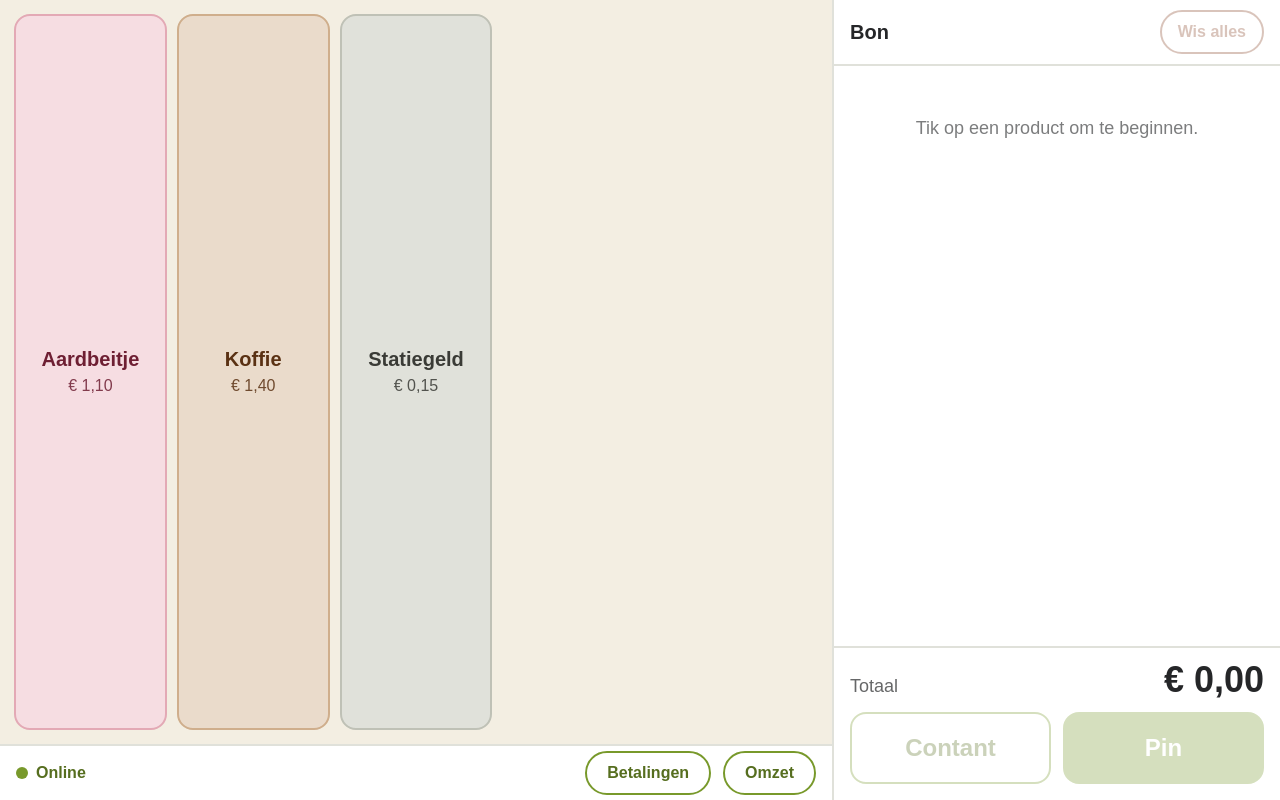
shows what the server refused, and forgets it once it has been passed on
Click the button "Aardbeitje € 1,10" at {"x": 90, "y": 372}, box left=14, top=14, right=167, bottom=730
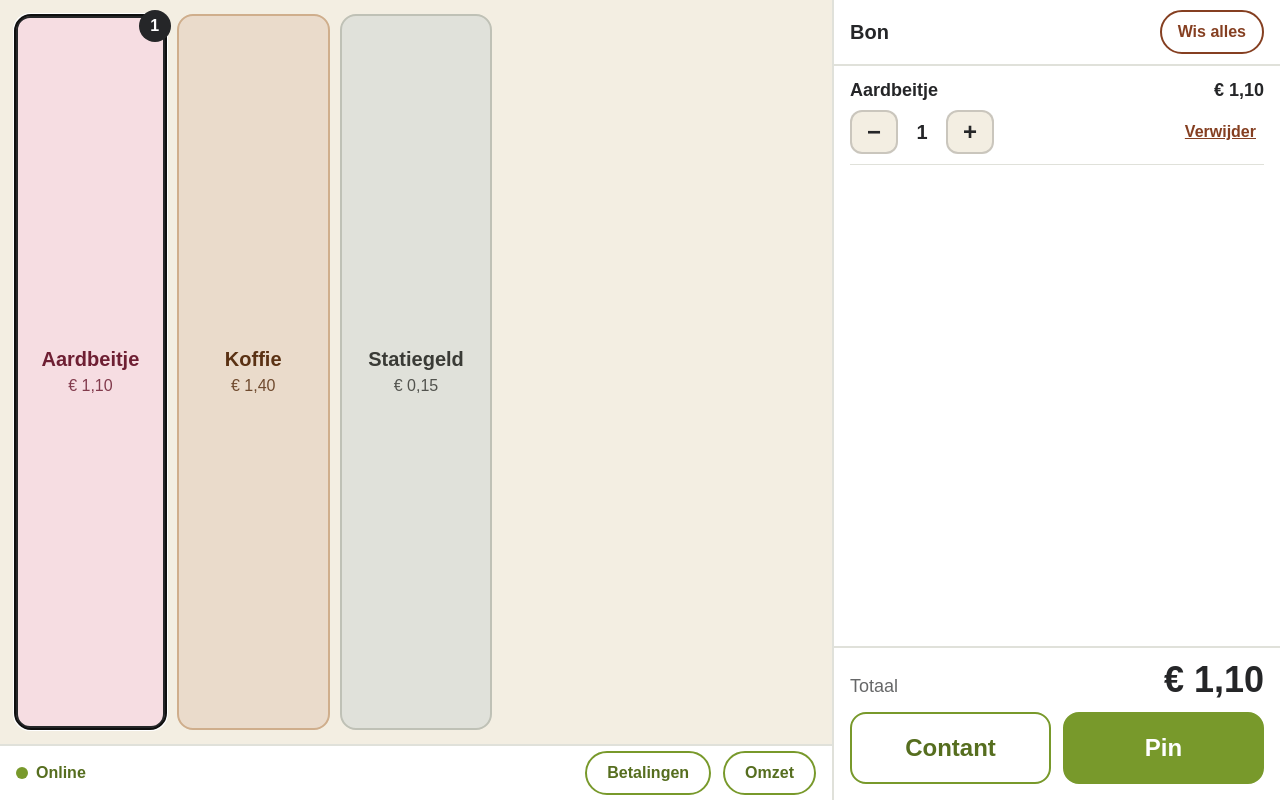
Click the button "Aardbeitje € 1,10 1" at {"x": 90, "y": 372}, box left=14, top=14, right=167, bottom=730
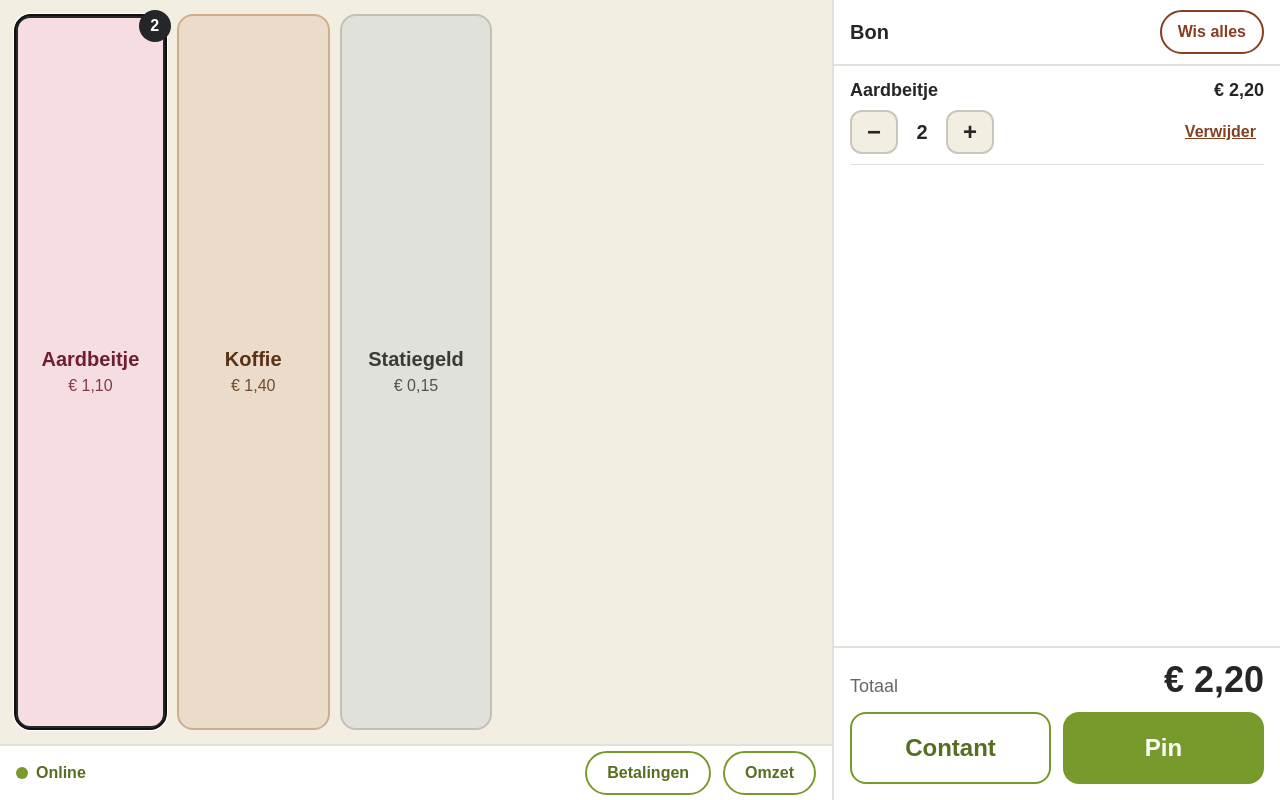
Click the button "Contant" at {"x": 950, "y": 748}, box left=850, top=712, right=1051, bottom=784
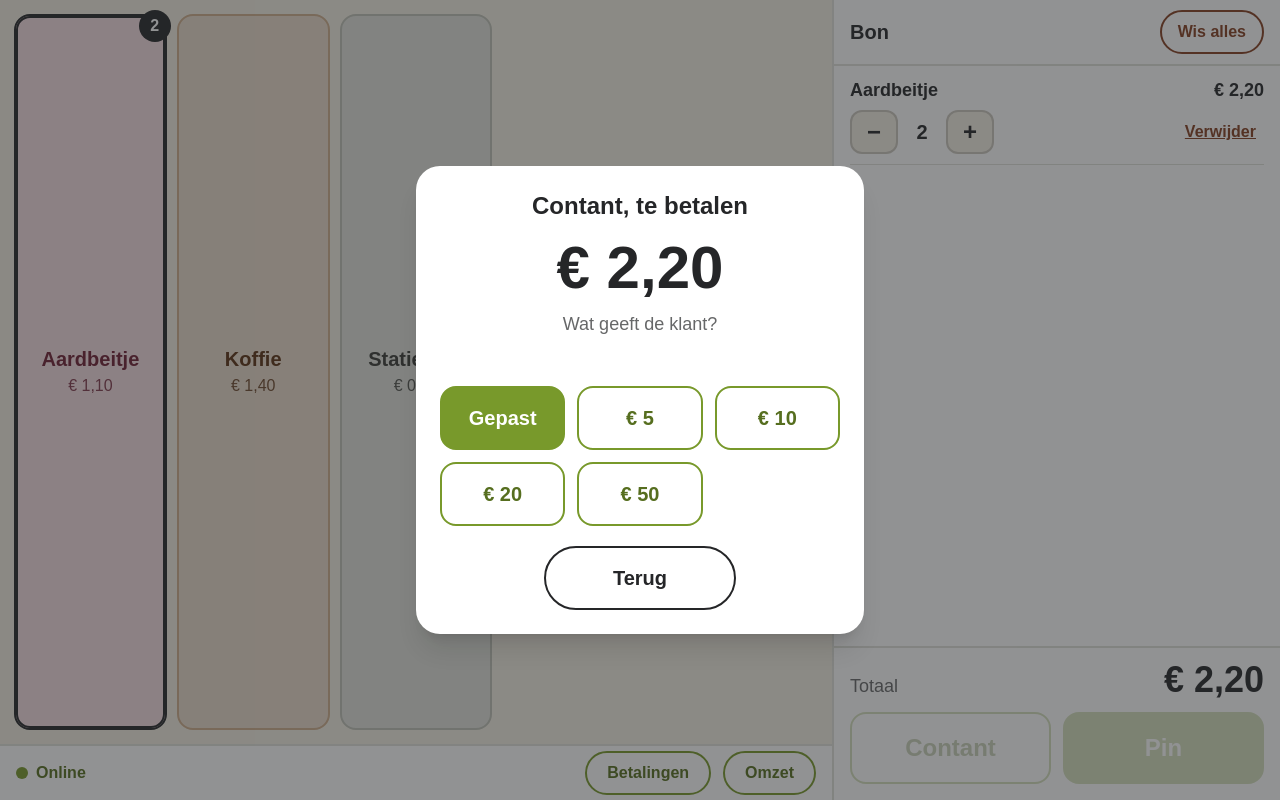
Click the button "Gepast" at {"x": 503, "y": 418}, box left=440, top=386, right=565, bottom=450
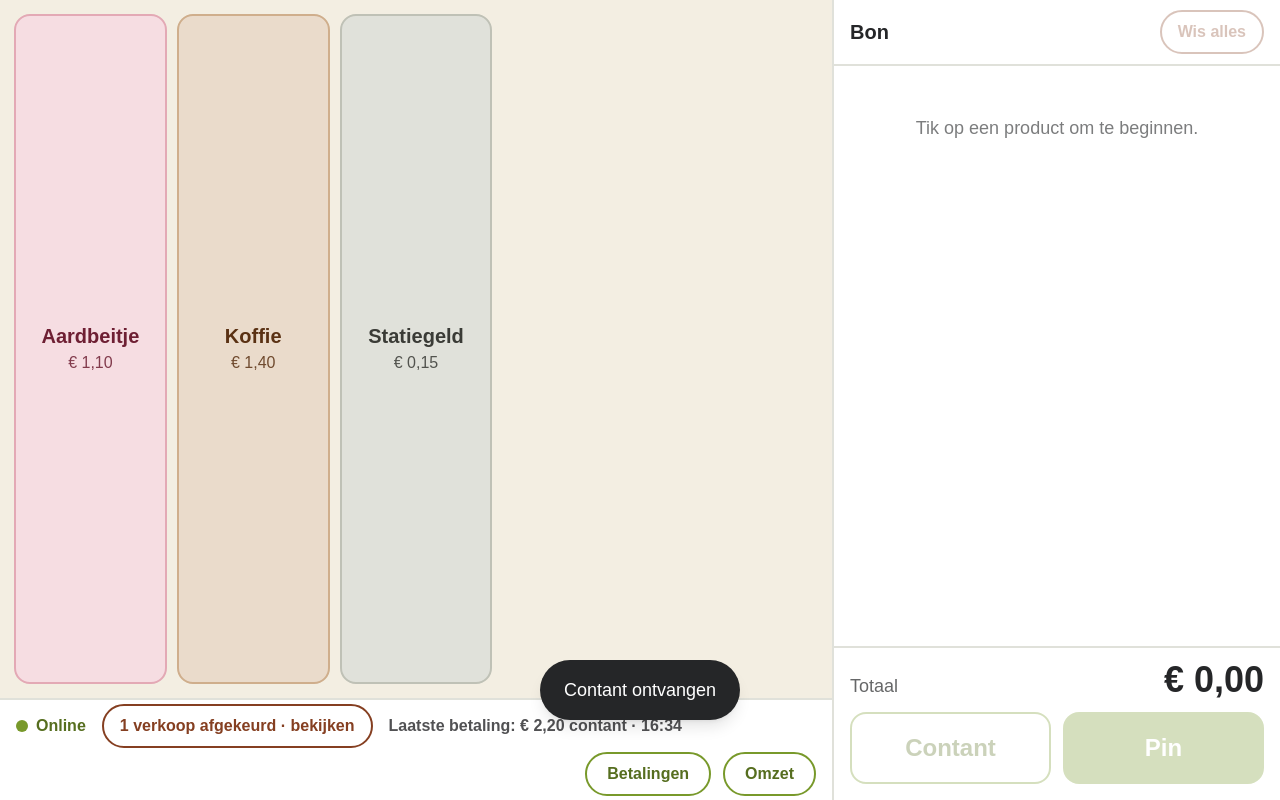
Click the button "1 verkoop afgekeurd · bekijken" at {"x": 237, "y": 726}, box left=102, top=704, right=373, bottom=748
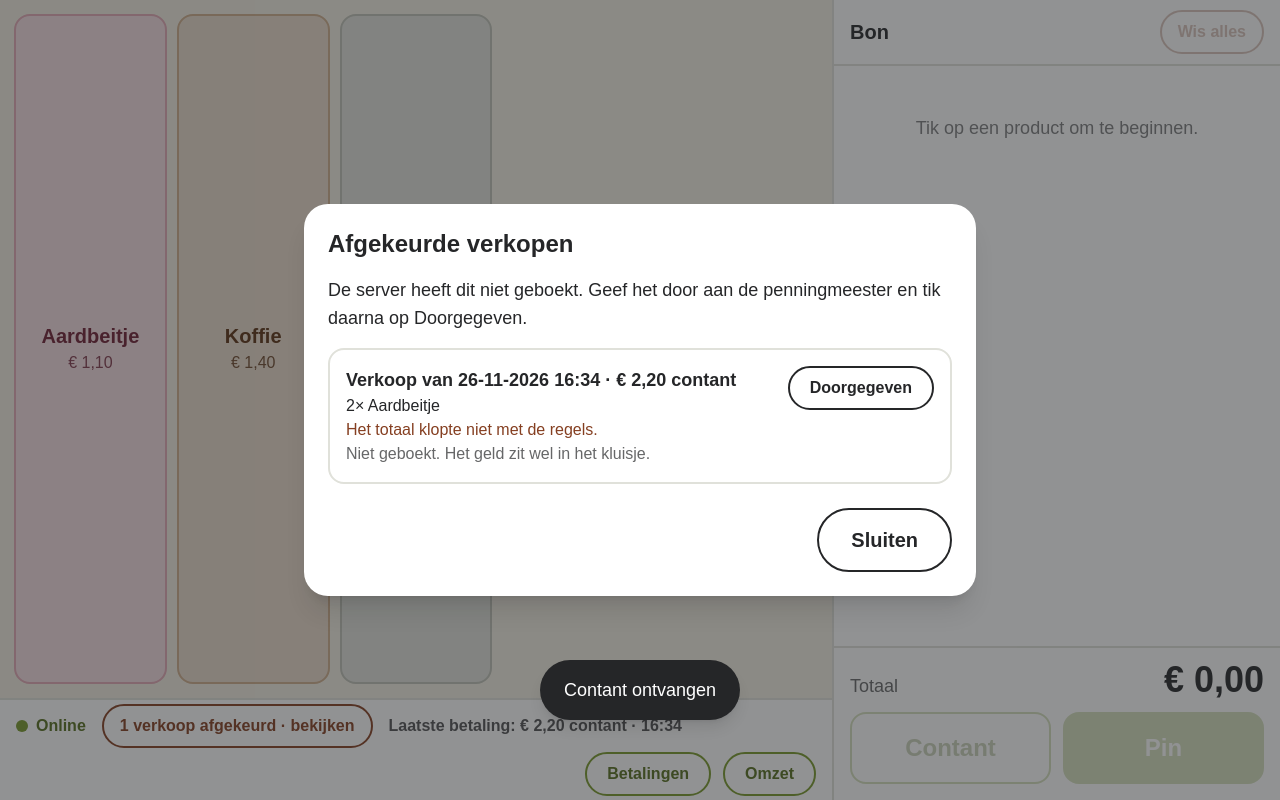
Expected: the heading "Verkoop van 26-11-2026 16:34 · € 2,20 contant" is shown, left=346, top=366, right=736, bottom=394
Expected: the text "2× Aardbeitje" is shown, left=346, top=397, right=440, bottom=414
Expected: the text "Het totaal klopte niet met de regels." is shown, left=346, top=421, right=598, bottom=438
Click the button "Doorgegeven" at {"x": 861, "y": 388}, box left=788, top=366, right=934, bottom=410
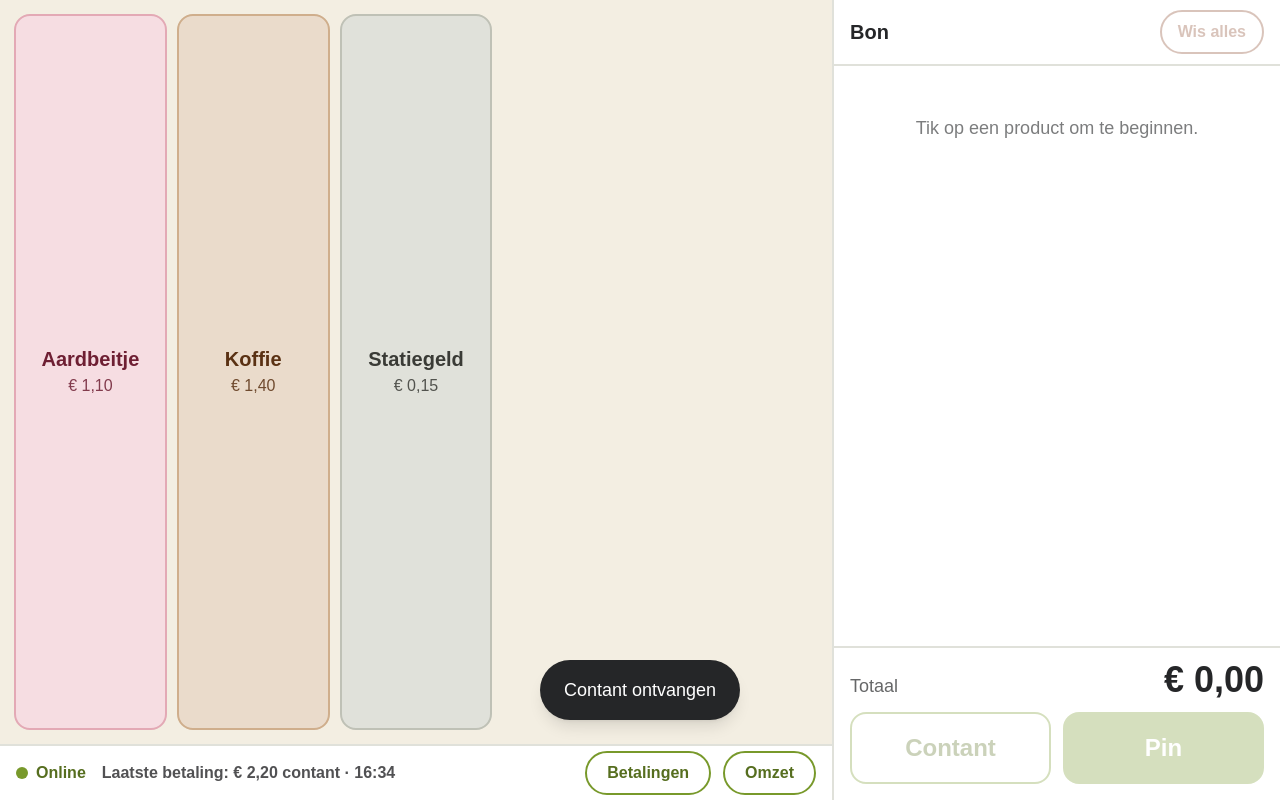
Expected: the button "afgekeurd" is gone
Expected: the dialog is gone
